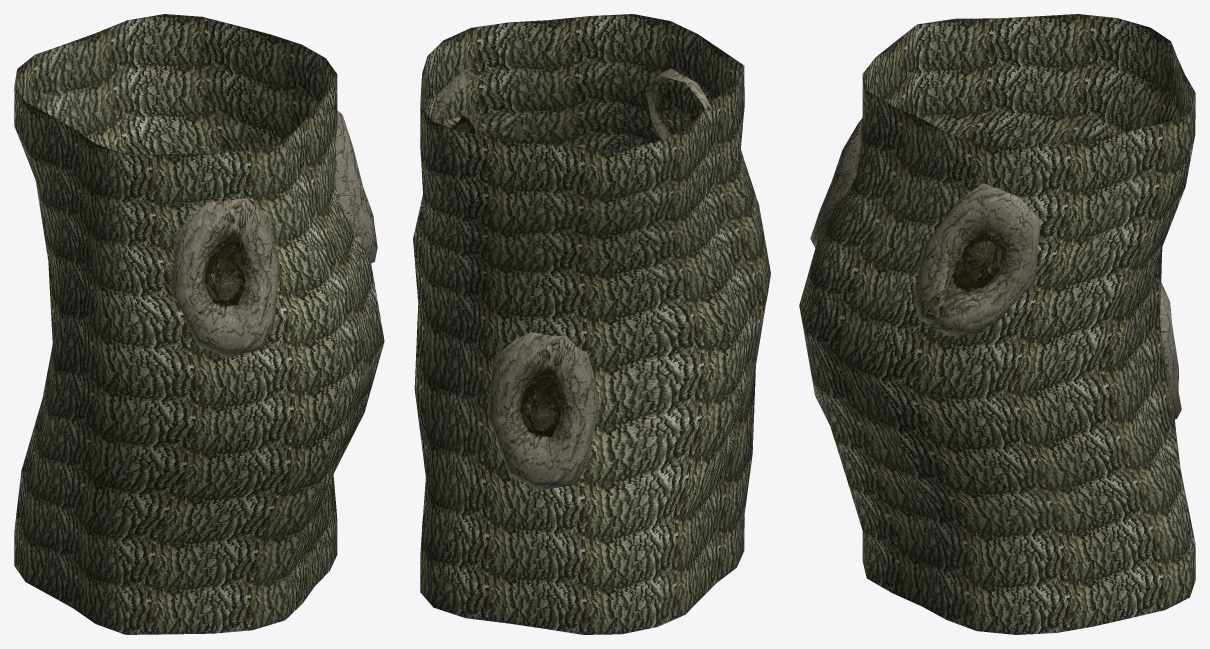
Rendered from Stump09.fbx.
3 views of the same model, side by side, from view 1: azimuth 30°, elevation 25°; view 2: azimuth 150°, elevation 25°; view 3: azimuth 270°, elevation 25° (orthographic).
Visible parts, largest first — view 1: Stump09; view 2: Stump09; view 3: Stump09.
Boxes of the visible parts, x1,y1,x2,y2 form: Stump09: (14,14,384,634); Stump09: (413,14,770,634); Stump09: (799,14,1195,634).
Size of the model in its own units: 13.17 by 20 by 14.75.
Materials: 2 (2 with a texture image).
